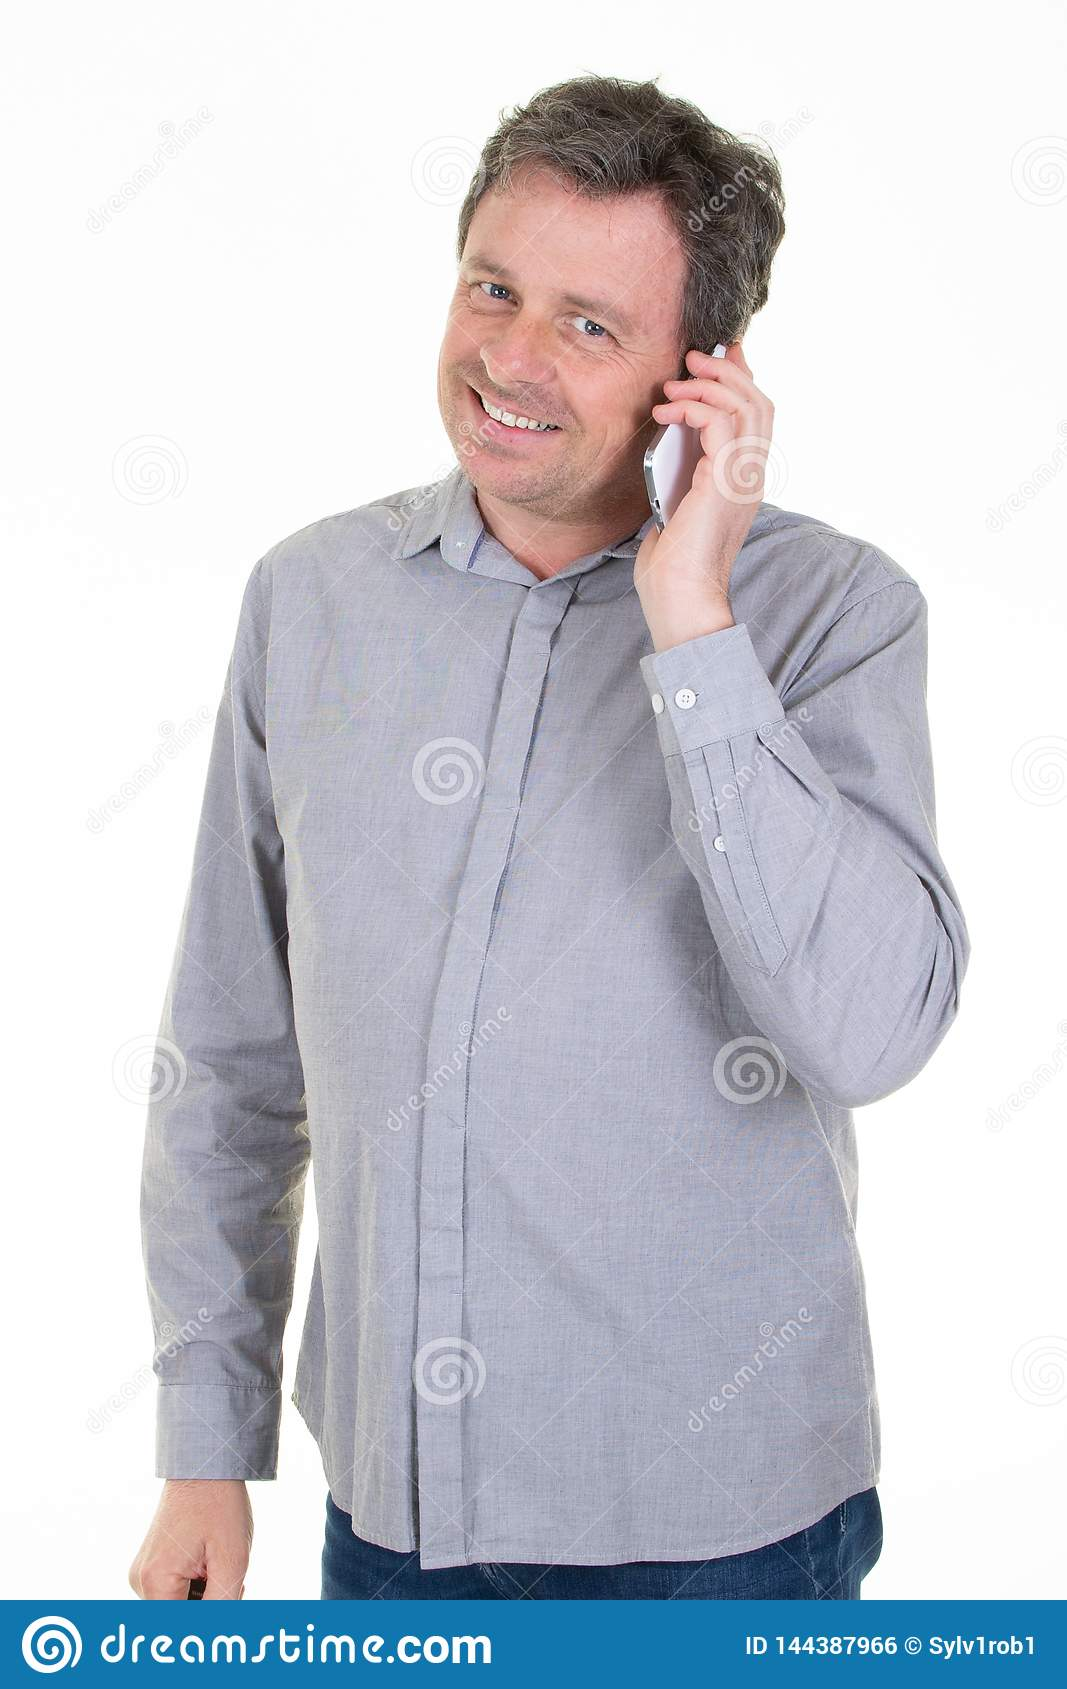phone: (642, 344, 742, 559)
talk: (433, 254, 782, 636)
